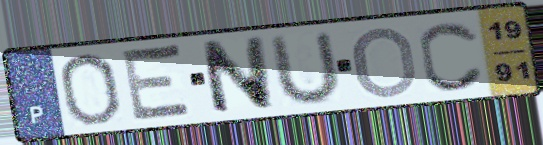C: (416, 19, 488, 93)
E: (119, 41, 197, 124)
N: (197, 34, 277, 118)
O: (350, 25, 420, 101), (56, 50, 124, 128)
U: (269, 28, 344, 109)
